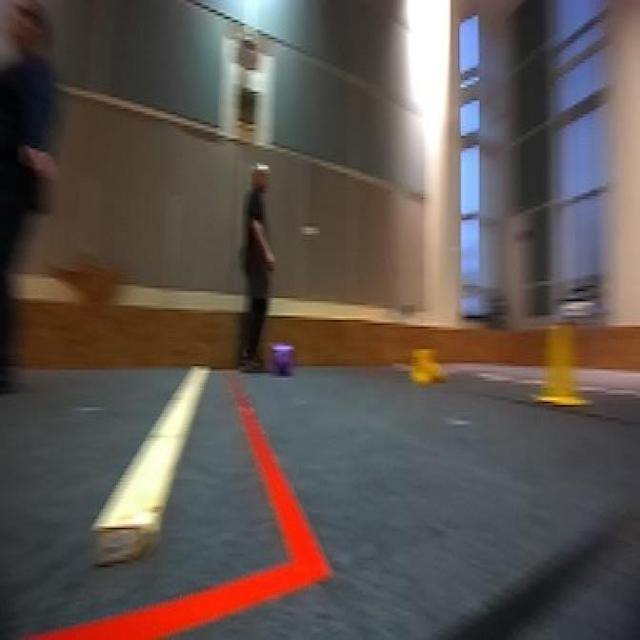frc_cone: (526, 324, 590, 408), (411, 349, 452, 388)
frc_cube: (274, 346, 294, 376)
